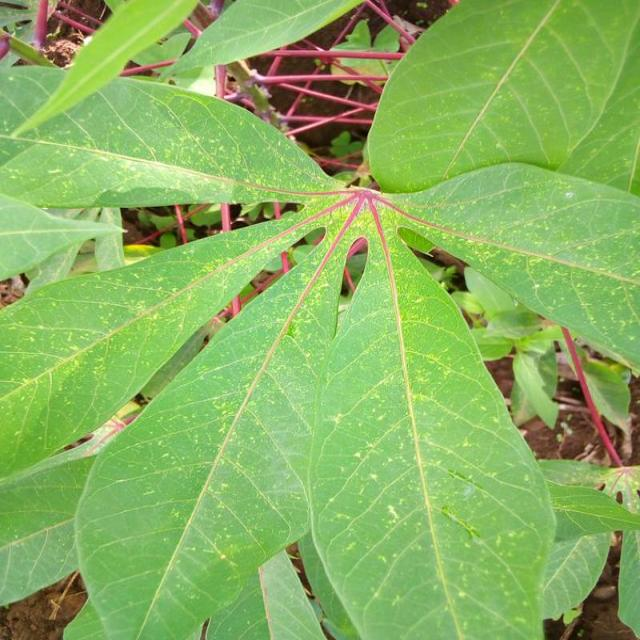cassava leaf: (1, 1, 638, 638), (304, 192, 557, 638), (364, 0, 638, 196), (0, 61, 348, 209)
